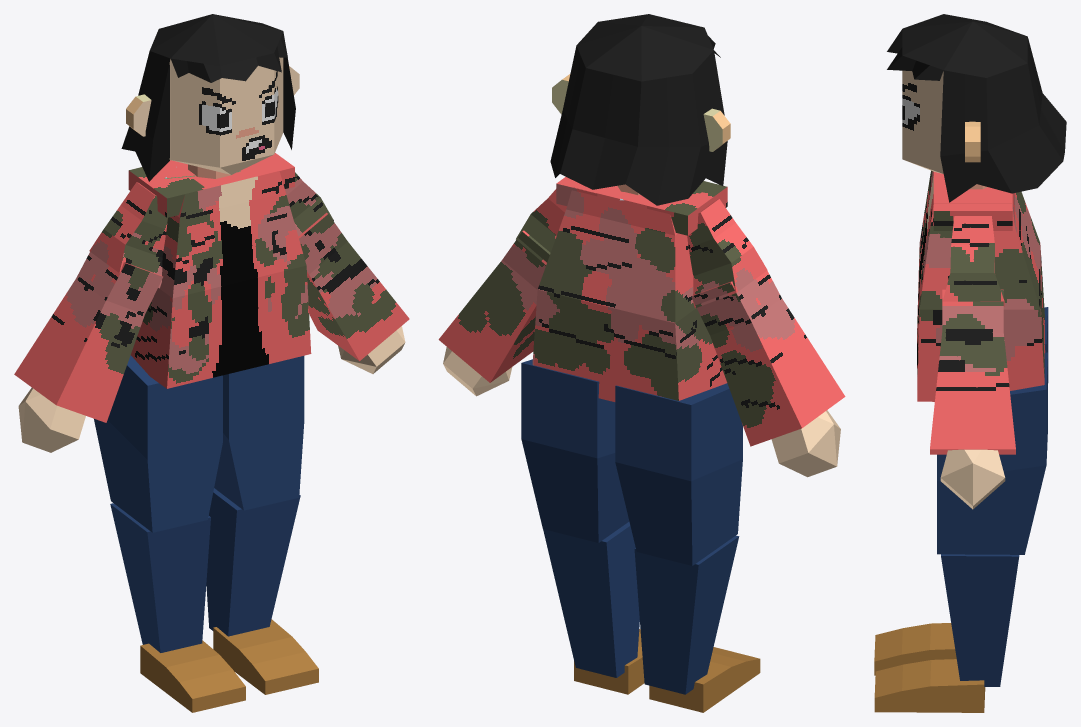
File: goon.gltf
3 views of the same model, side by side, from view 1: azimuth 30°, elevation 25°; view 2: azimuth 150°, elevation 25°; view 3: azimuth 270°, elevation 25° (orthographic). The views are drawn at different scales.
Visible parts, largest first — view 1: cylinder, Thigh (×2), Lower Arm (×2), Head, Shin (×2), cuboid (×2), Upper Arm (×2), sphere (×2), Shoulder, Left Ear; view 2: Thigh (×2), cylinder, Head, Lower Arm (×2), Shin (×2), Upper Arm (×2), cuboid (×2), sphere (×2), Shoulder, Left Ear; view 3: Head, cylinder, Lower Arm, Thigh, cuboid (×2), Shin, Upper Arm, sphere, Shoulder, Right Ear.
Boxes of the visible parts, <box> form: cylinder: <box>131,159,311,388</box>; Thigh (×2): <box>94,355,304,532</box>; Lower Arm (×2): <box>14,212,409,422</box>; Head: <box>121,14,295,181</box>; Shin (×2): <box>110,488,300,652</box>; cuboid (×2): <box>140,619,318,712</box>; Upper Arm (×2): <box>89,172,333,288</box>; sphere (×2): <box>18,326,405,452</box>; Shoulder: <box>128,161,206,217</box>; Left Ear: <box>126,94,151,136</box>; Thigh (×2): <box>521,359,742,565</box>; cylinder: <box>532,183,727,401</box>; Head: <box>550,14,727,205</box>; Lower Arm (×2): <box>438,230,845,446</box>; Shin (×2): <box>543,521,739,694</box>; Upper Arm (×2): <box>516,189,767,308</box>; cuboid (×2): <box>574,629,760,712</box>; sphere (×2): <box>443,347,840,477</box>; Shoulder: <box>647,181,727,235</box>; Left Ear: <box>703,108,730,151</box>; Head: <box>887,14,1066,202</box>; cylinder: <box>917,170,1045,401</box>; Lower Arm: <box>930,289,1015,454</box>; Thigh: <box>937,352,1047,554</box>; cuboid (×2): <box>874,623,985,712</box>; Shin: <box>941,554,1019,686</box>; Upper Arm: <box>942,216,1004,306</box>; sphere: <box>940,449,1005,509</box>; Shoulder: <box>933,193,1012,230</box>; Right Ear: <box>965,121,980,162</box>.
Size of the model in its own units: 1.79 by 2.91 by 0.767.
Materials: 3 (3 with a texture image).
